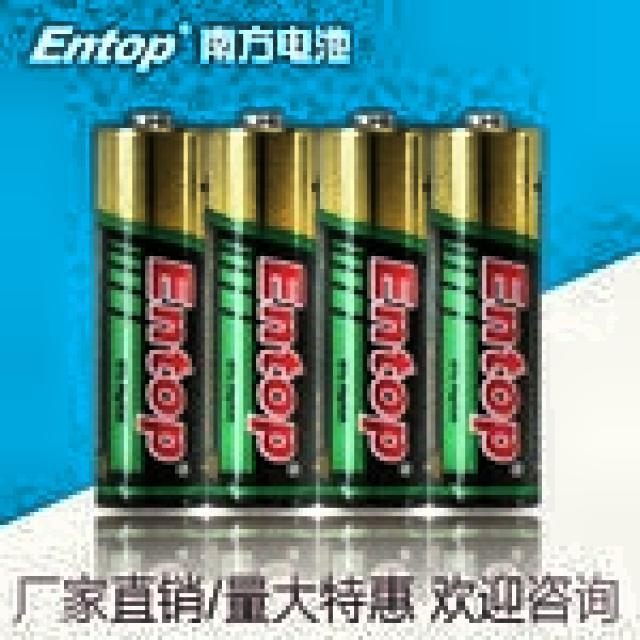Non-Valuable Waste - Batteries: (96, 120, 539, 507)
